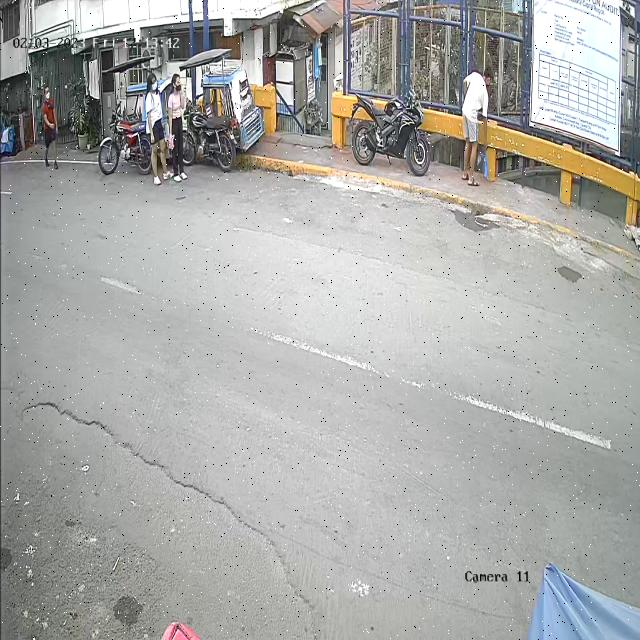human: (462, 64, 492, 186)
trash: (478, 146, 488, 174)
